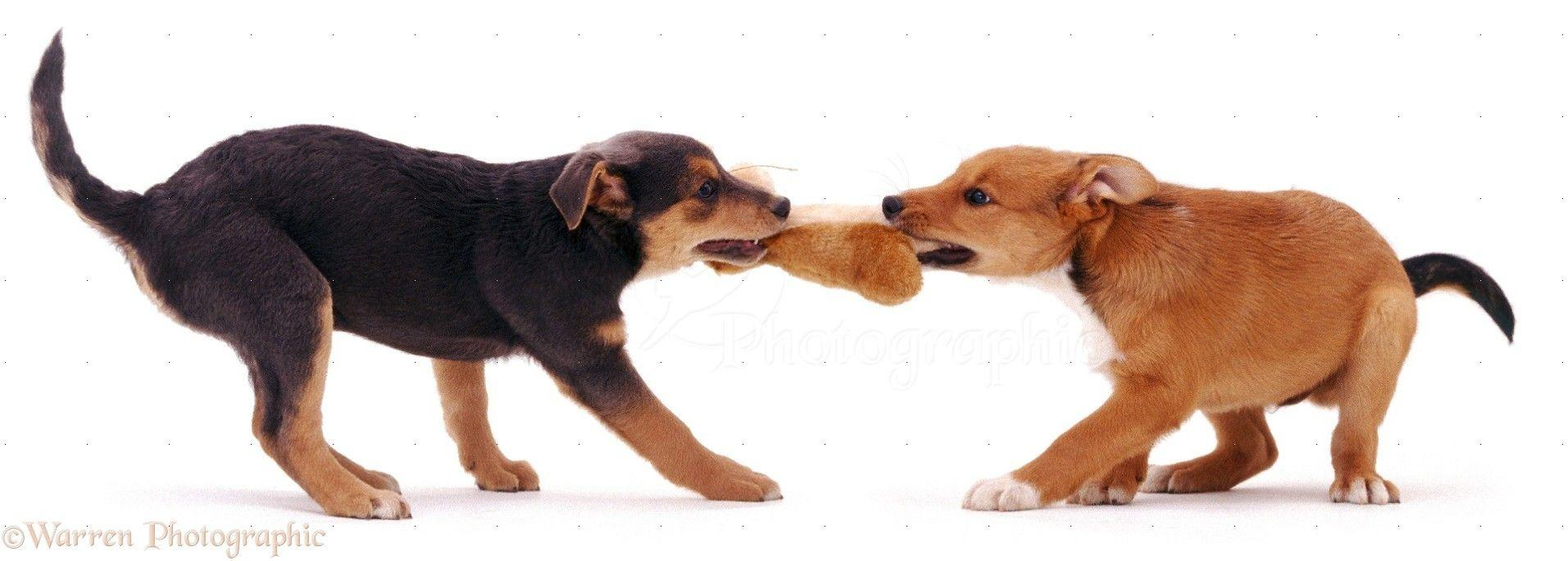puppy-dog: (30, 30, 789, 522), (880, 147, 1518, 513)
